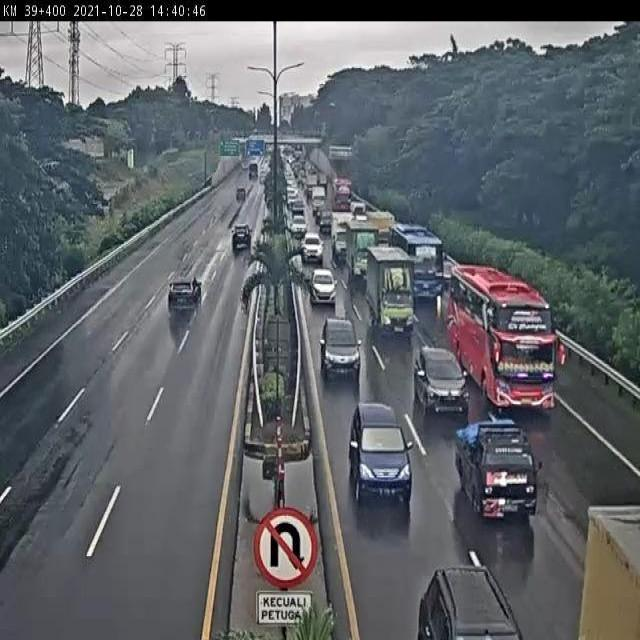big bus: (449, 261, 556, 416), (388, 220, 445, 303)
car: (454, 420, 539, 523), (348, 401, 414, 504), (414, 344, 471, 417), (319, 317, 360, 376), (309, 268, 337, 309)
mid truck: (365, 245, 417, 336), (166, 273, 204, 316)
